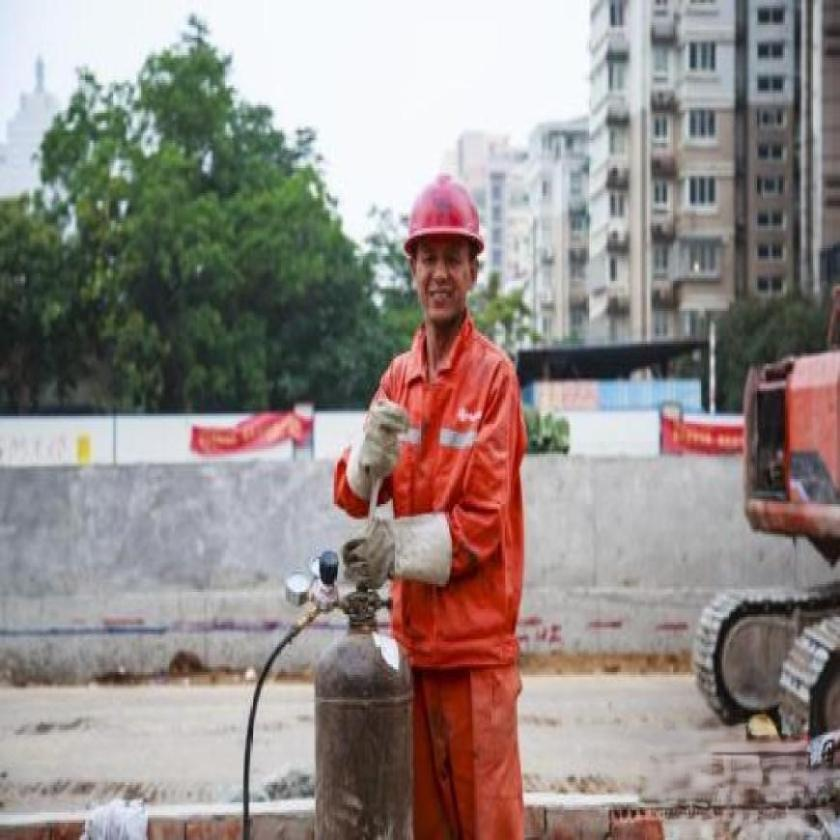Con_casco: (401, 163, 489, 341)
